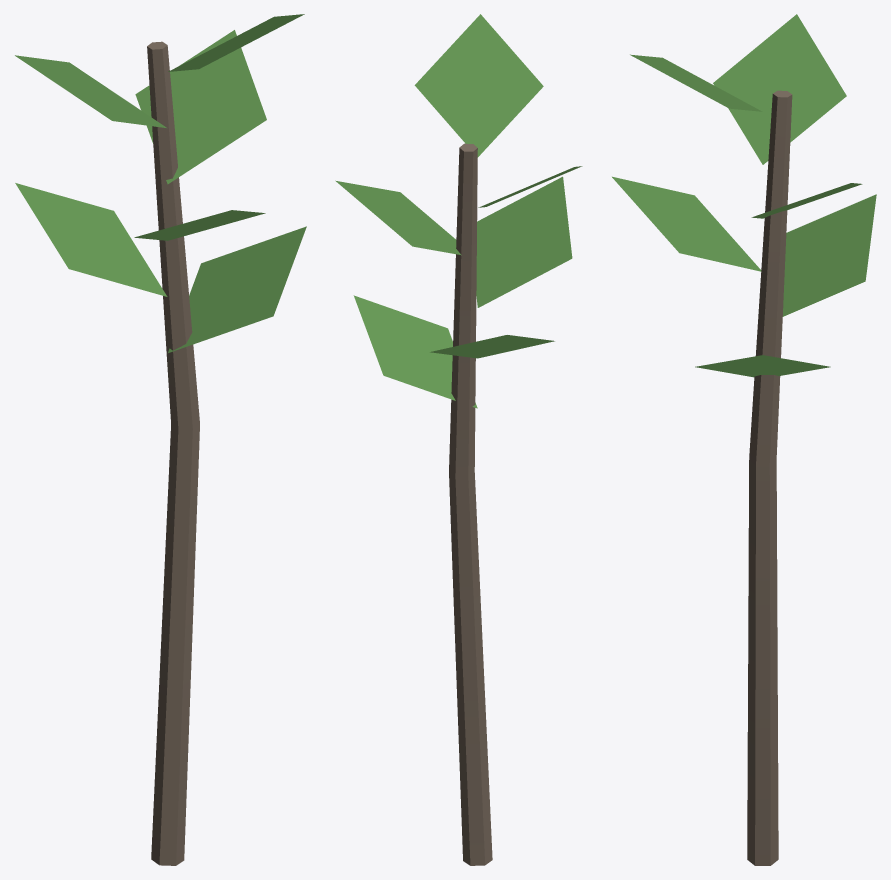
The model's file is muda.glb.
3 renders of one model, left to right at view 1: azimuth 30°, elevation 25°; view 2: azimuth 150°, elevation 25°; view 3: azimuth 270°, elevation 25°, orthographic. The views are drawn at different scales.
Parts seen in each view (by area): view 1: muda; view 2: muda; view 3: muda.
Part boxes in pixels (box(x1,y1,x2,y2)): muda: box(15, 14, 306, 865); muda: box(335, 14, 582, 865); muda: box(612, 14, 876, 865).
Size of the model in its own units: 0.1534 by 0.4699 by 0.1351.
